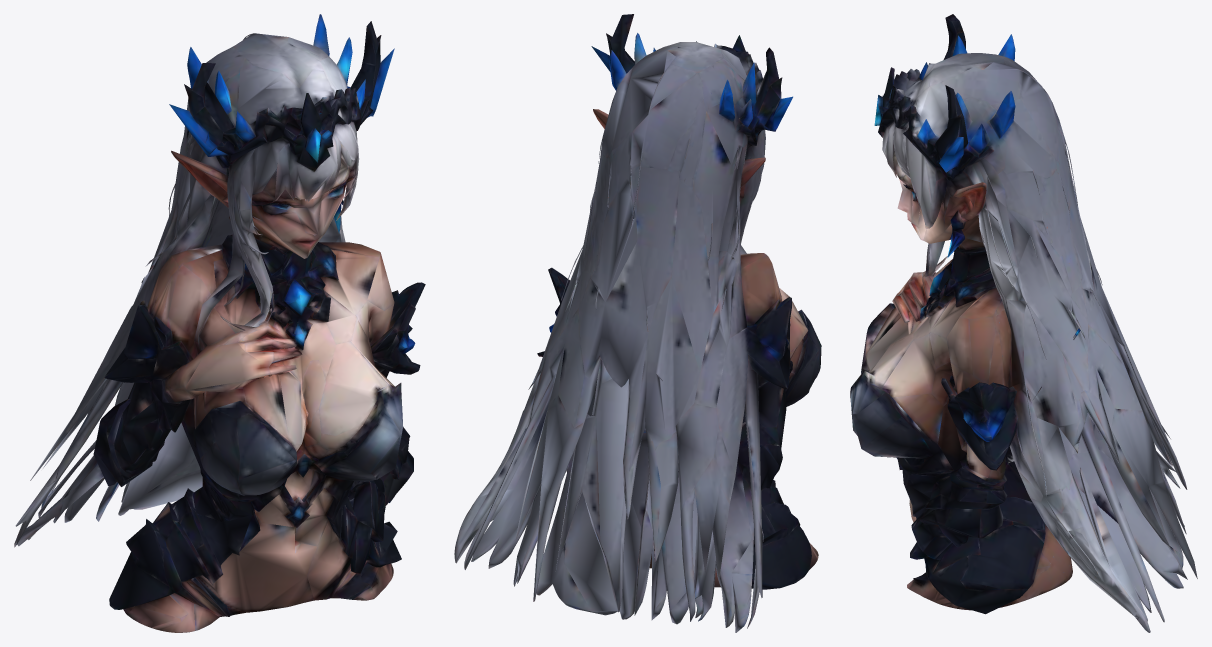
The model's file is 01a1a2e1-023a-7dbe-8dd9-3982d91493e5.glb.
3 renders of one model, left to right at view 1: azimuth 30°, elevation 25°; view 2: azimuth 150°, elevation 25°; view 3: azimuth 270°, elevation 25°, orthographic. The views are drawn at different scales.
Visible parts, largest first — view 1: node_0; view 2: node_0; view 3: node_0.
Part boxes in pixels (left/top/right/bottom): node_0: left=14, top=14, right=425, bottom=632; node_0: left=454, top=14, right=821, bottom=632; node_0: left=850, top=14, right=1197, bottom=632.
Bounding box in the file's own units: 0.6156 × 0.962 × 0.5934.
Materials: 1 (1 with a texture image).
